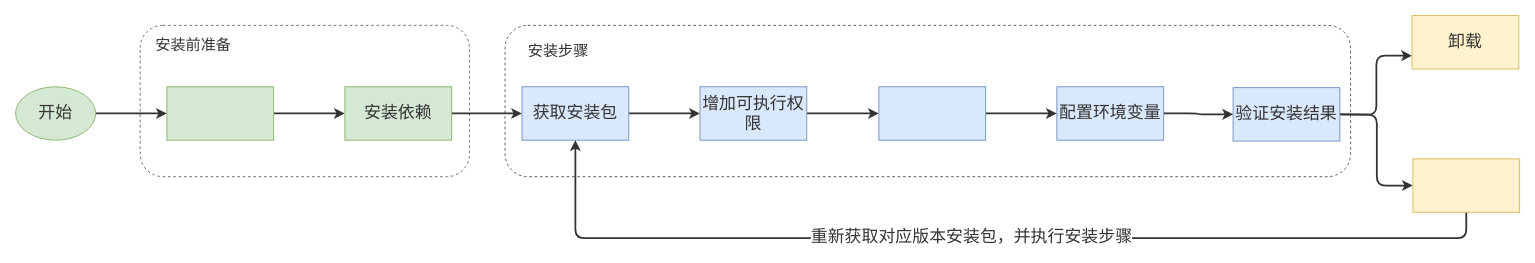
This 1535x263 diagram has some shape labels left out. The shapes that lost their labels are listed below. From the top down, each one's box as (x1, y1, x2, y2) in pixels, then its label:
(166, 86, 274, 140): 确认安装环境
(878, 86, 986, 140): 执行安装步骤
(1412, 158, 1520, 212): 版本升级/回退
